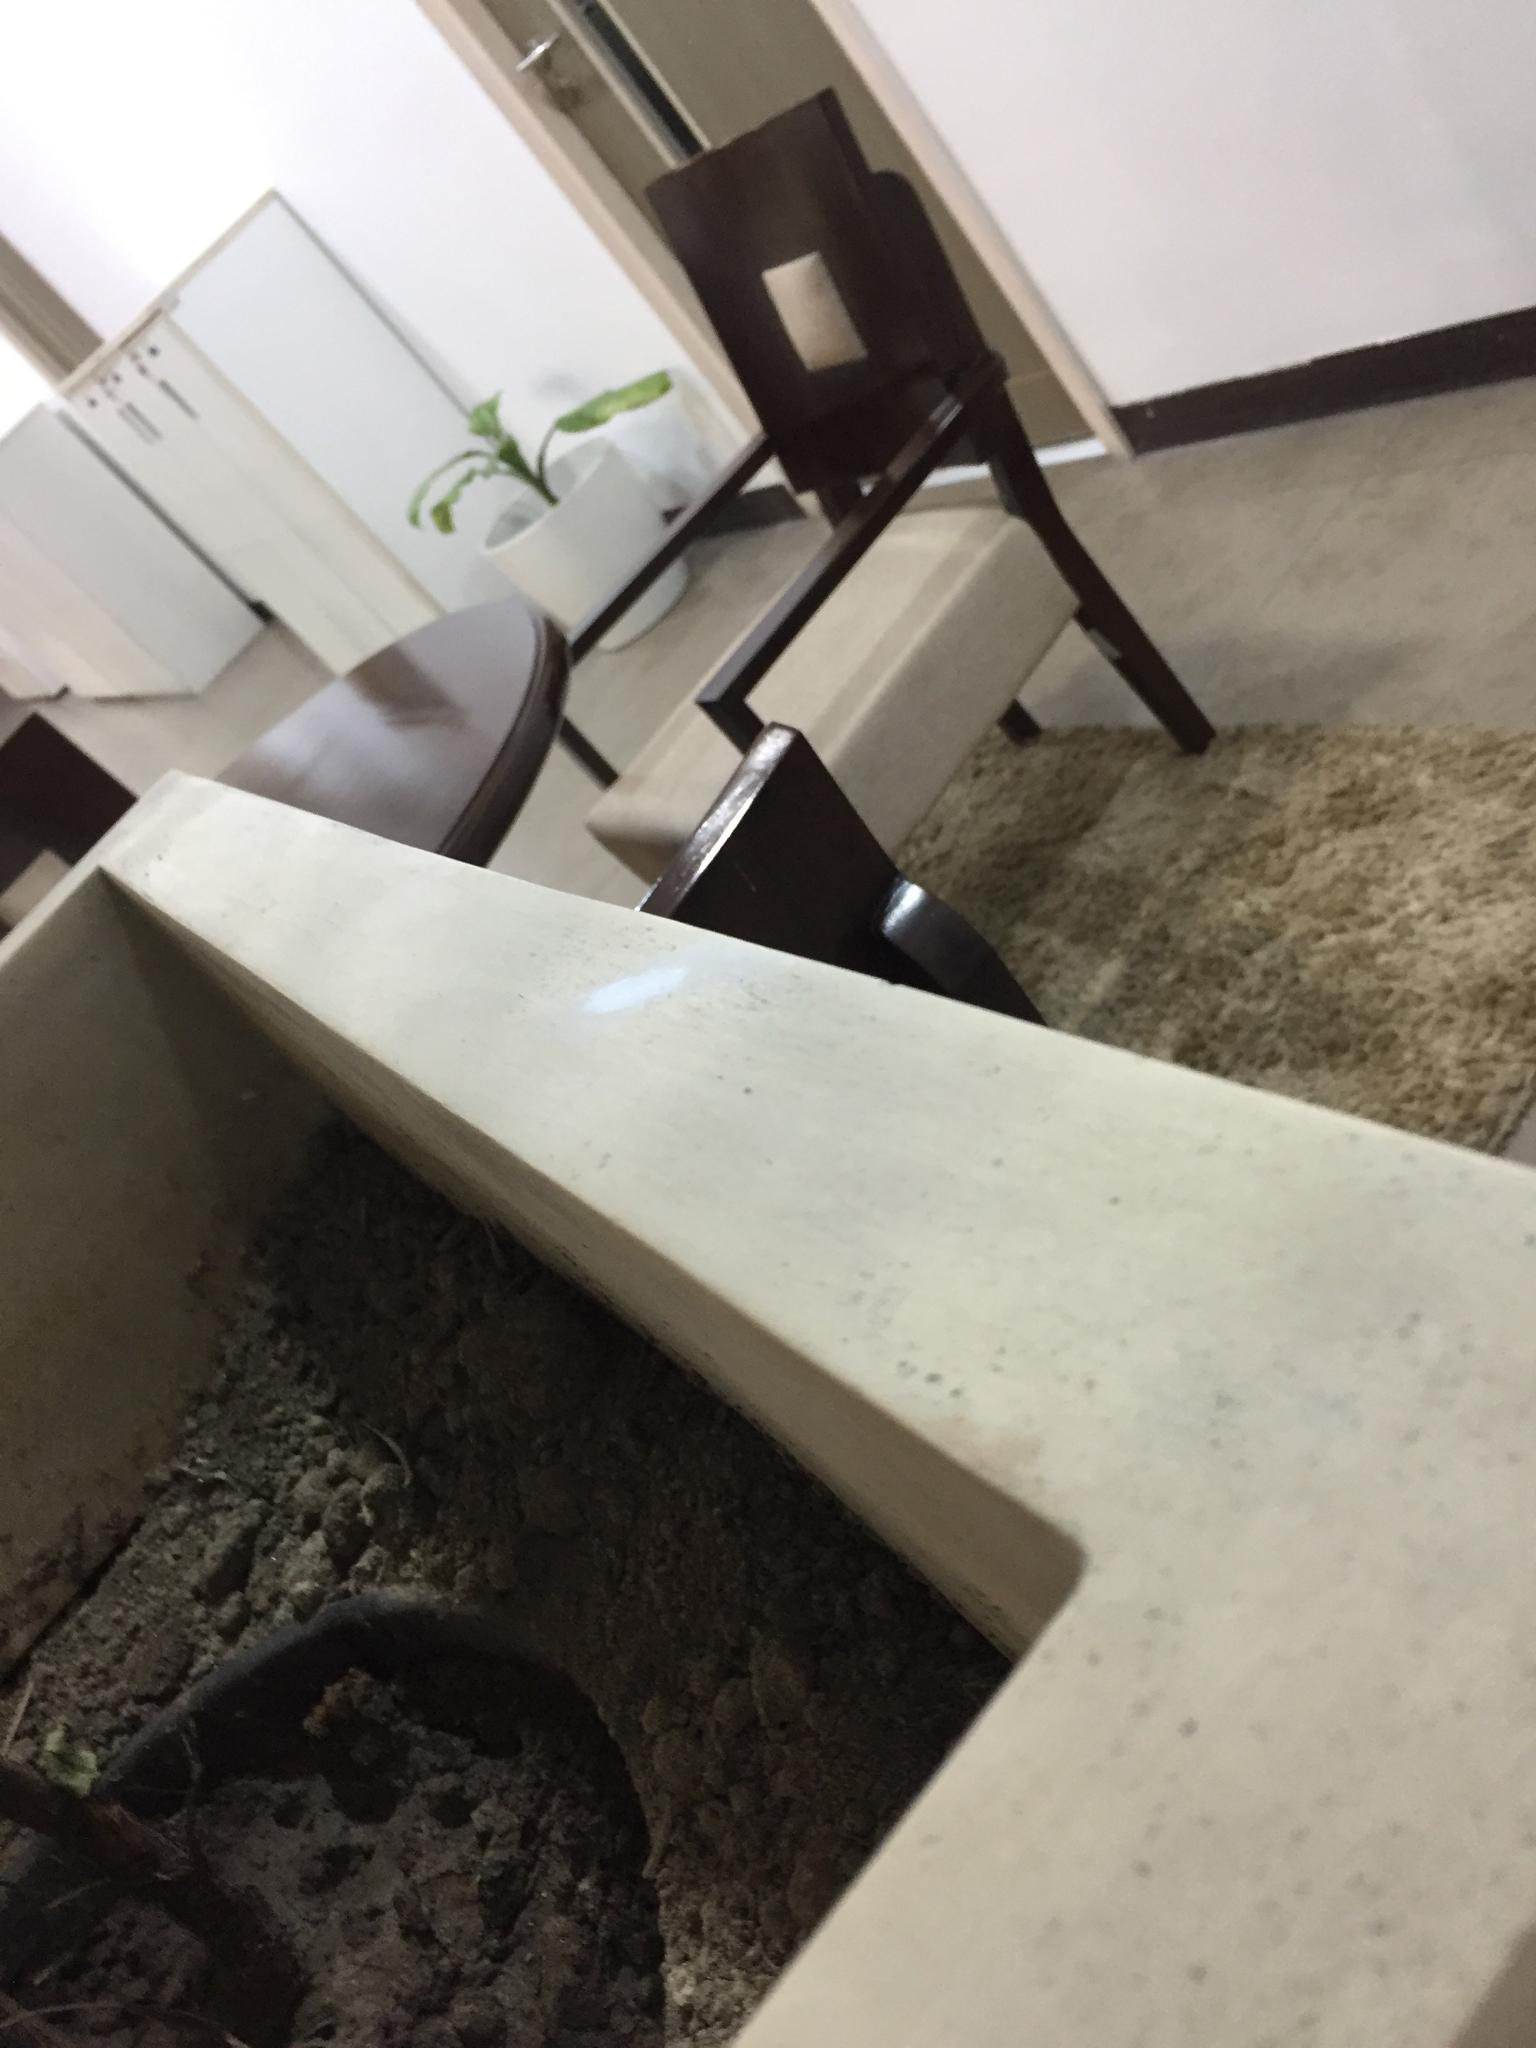chair: (563, 84, 1218, 787), (634, 721, 1049, 1027), (0, 685, 176, 1106)
